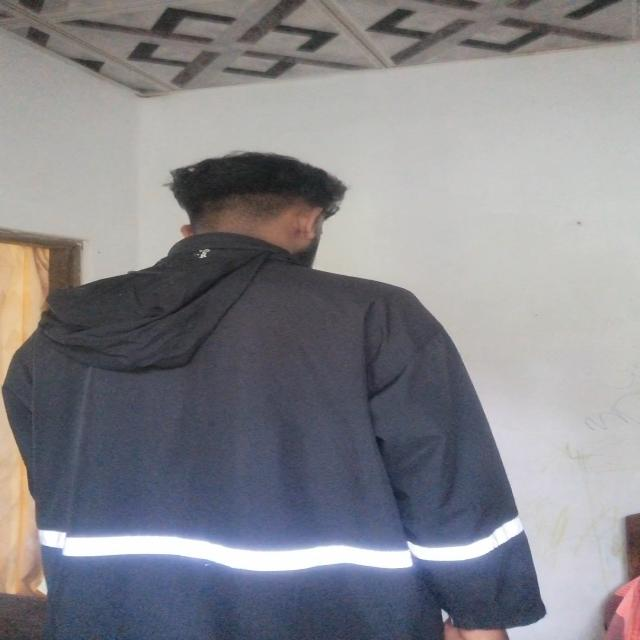Jacket_Wearer: (4, 232, 539, 640)
